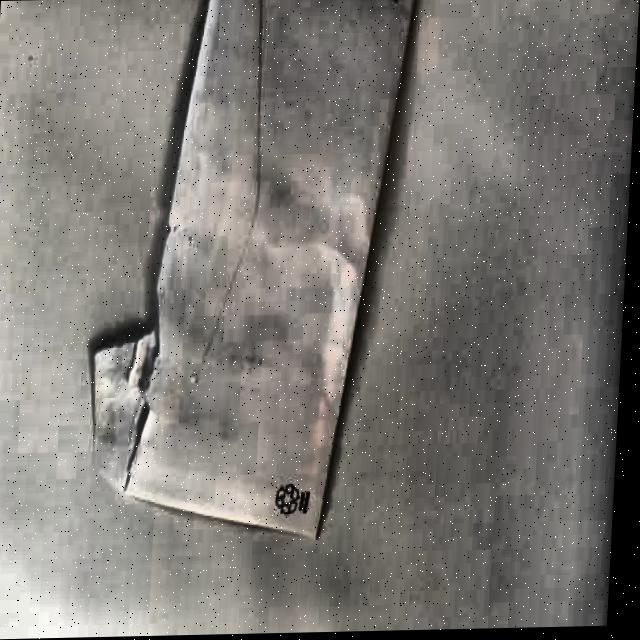paper: (80, 0, 415, 546)
